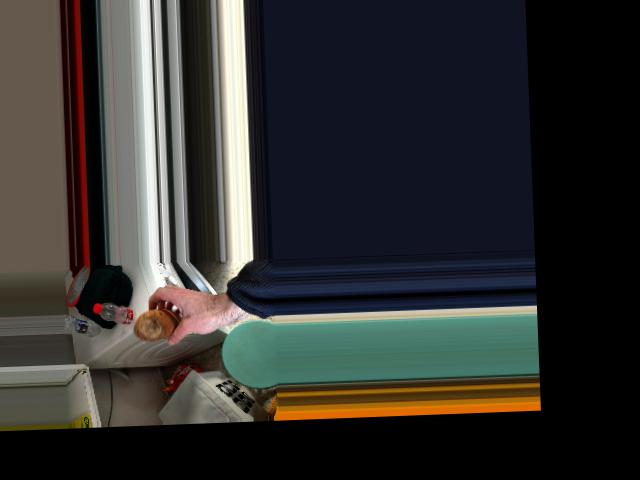sweet_potato: (130, 305, 185, 347)
